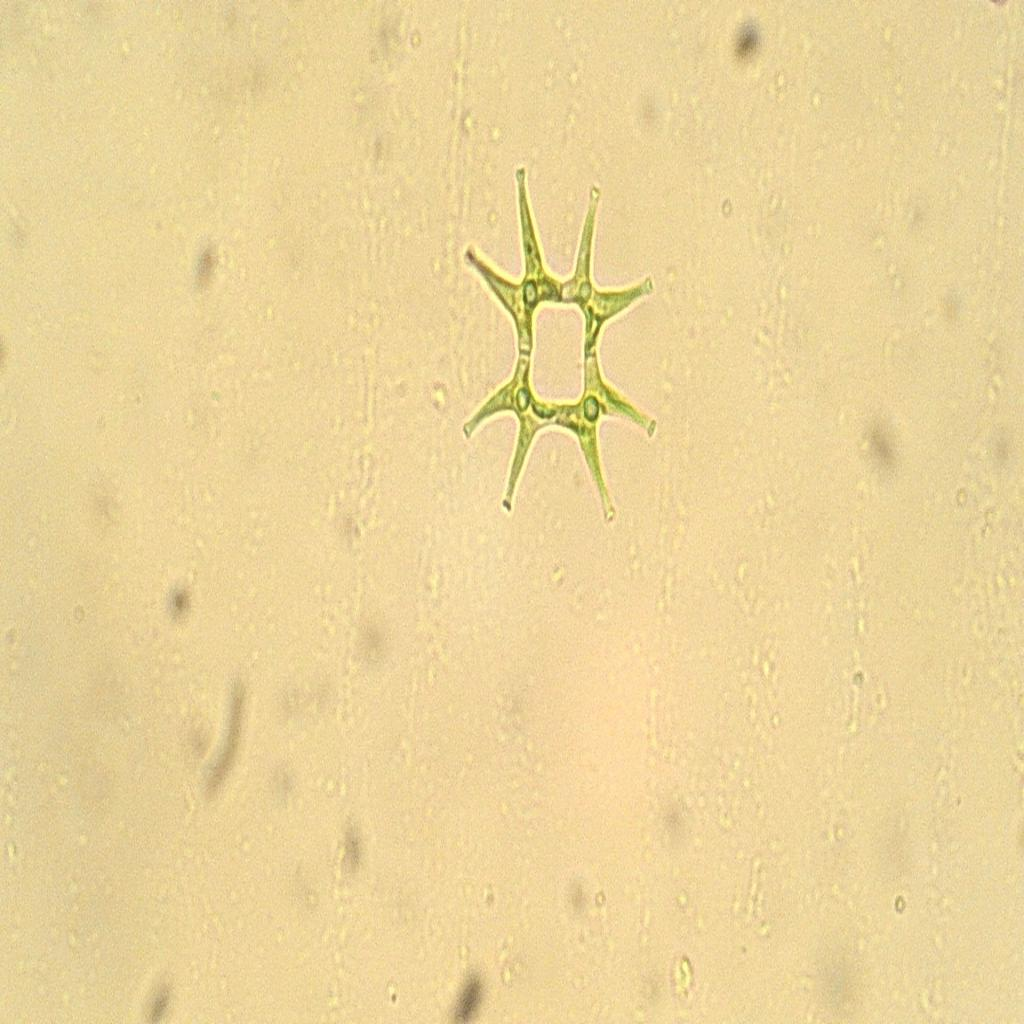Pediastrum_CO: (434, 162, 674, 539)
